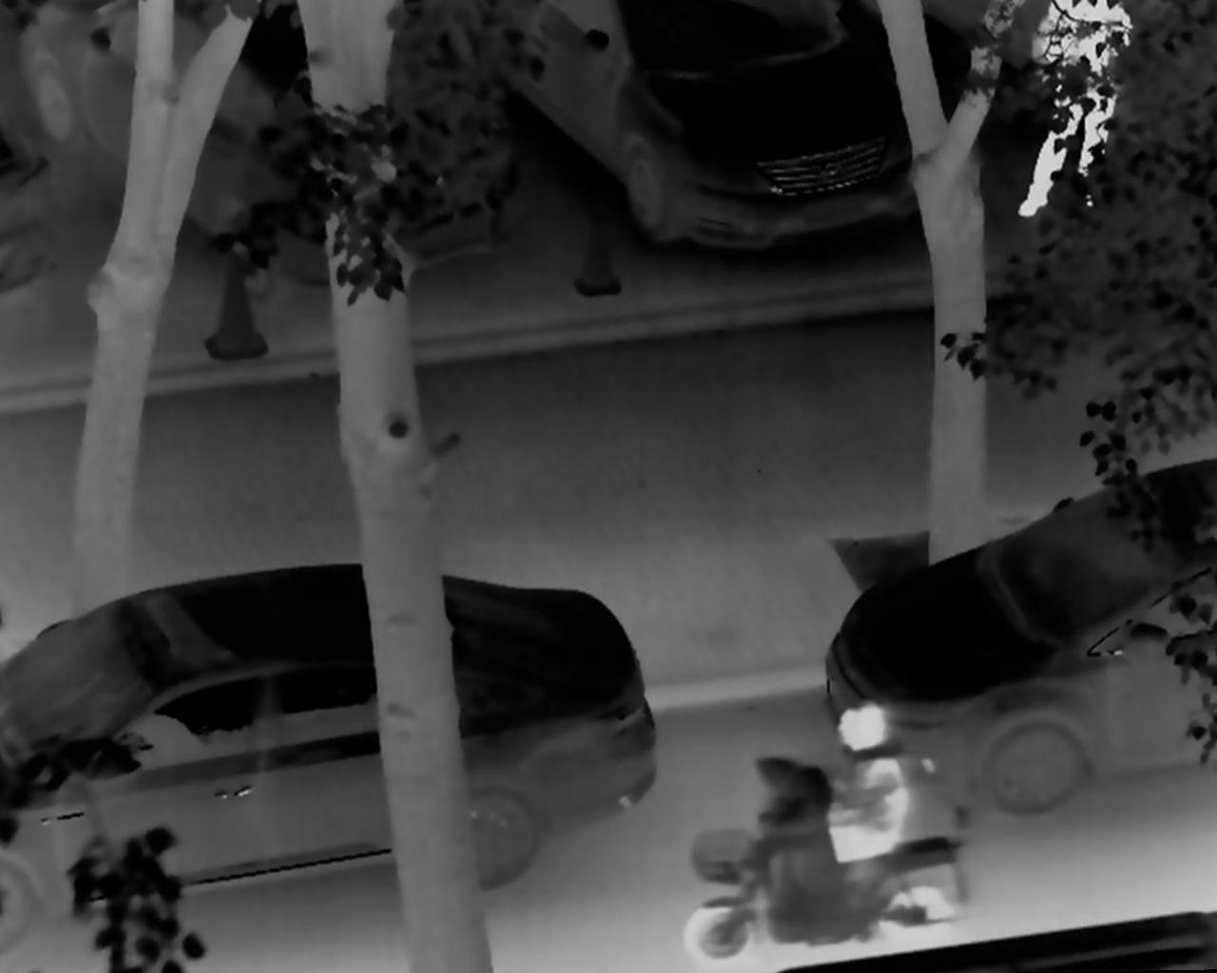person: (808, 696, 914, 878)
